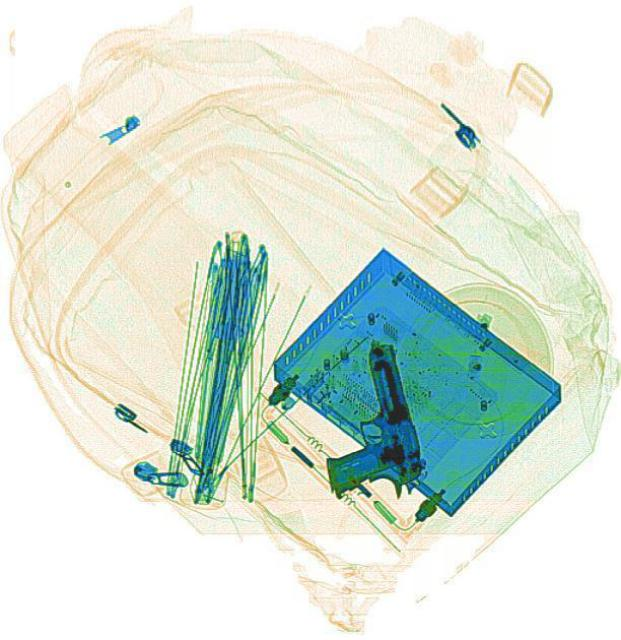Gun: (300, 339, 427, 511)
